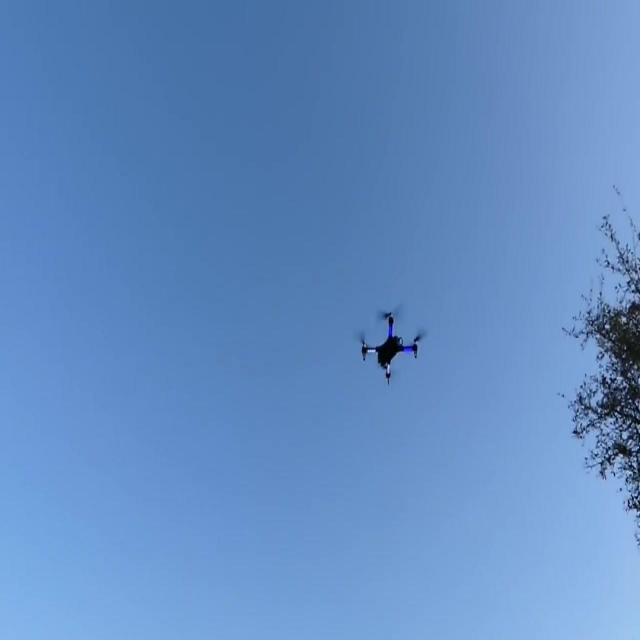UAV: (355, 305, 427, 387)
